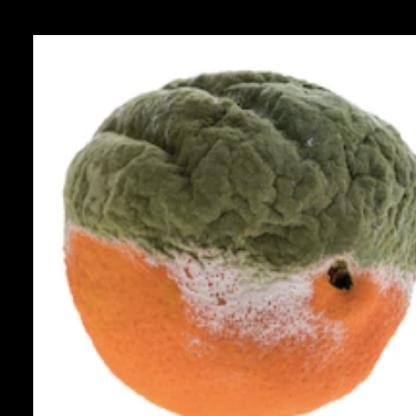rotten: (57, 67, 416, 416)
